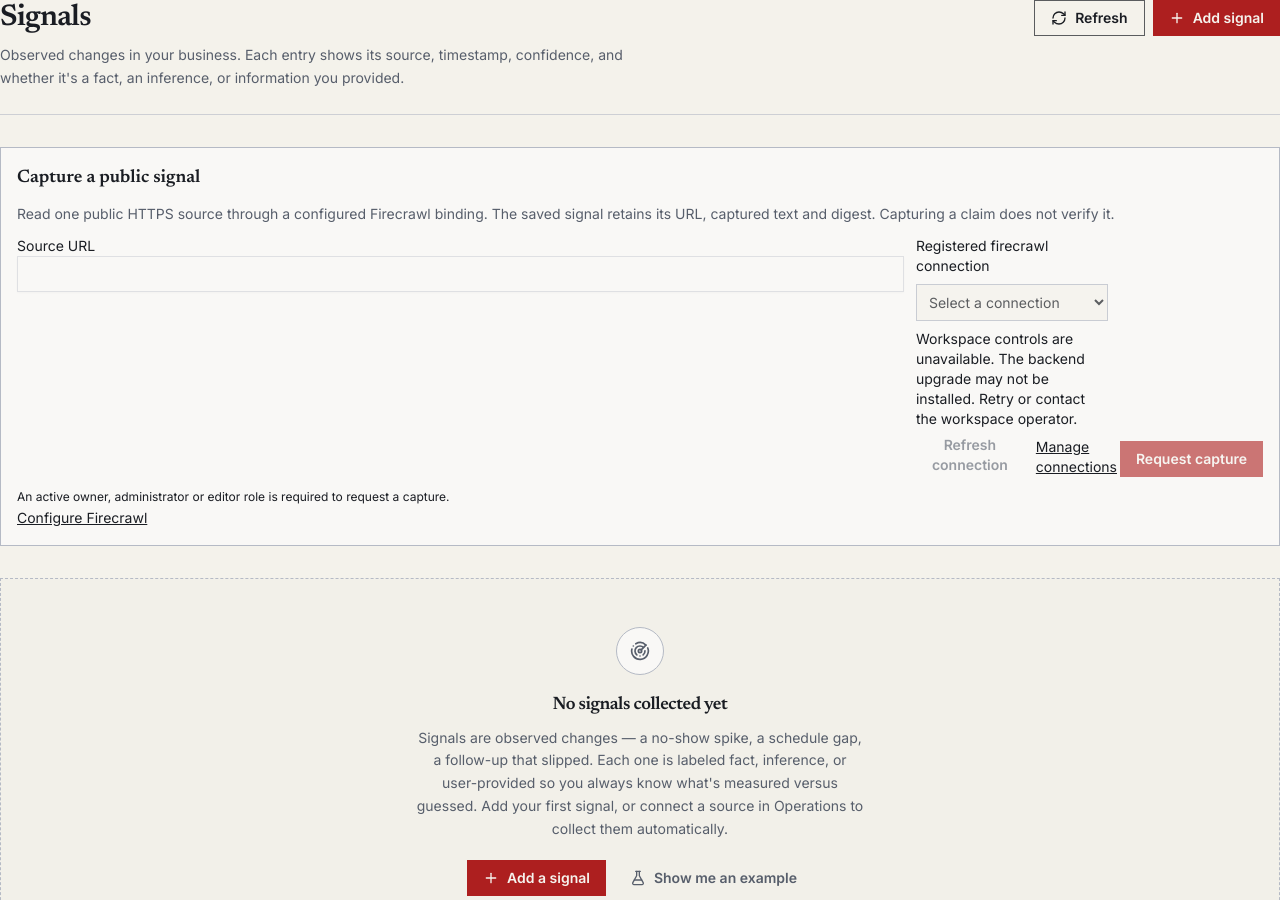
Scenario: SignalsPage › opens the record dialog with every provenance field
Click the button "Add signal" at x=1216, y=18, box [1153,0,1279,36]
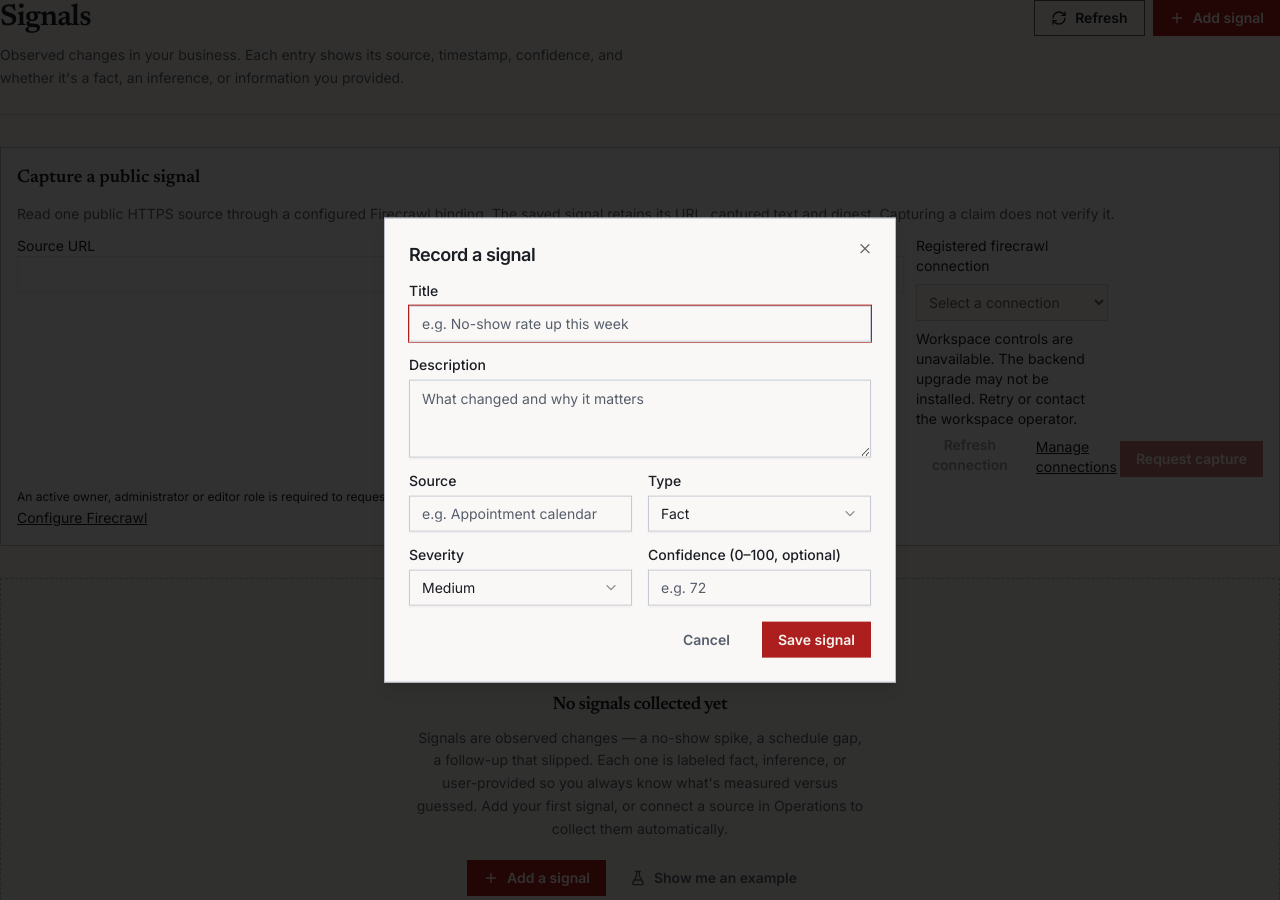
Expected: the field labelled "Title" is shown, [409,305,871,341]
Expected: the text box labelled "Description" is shown, [409,379,871,457]
Expected: the field labelled "Source" is shown, [409,495,632,531]
